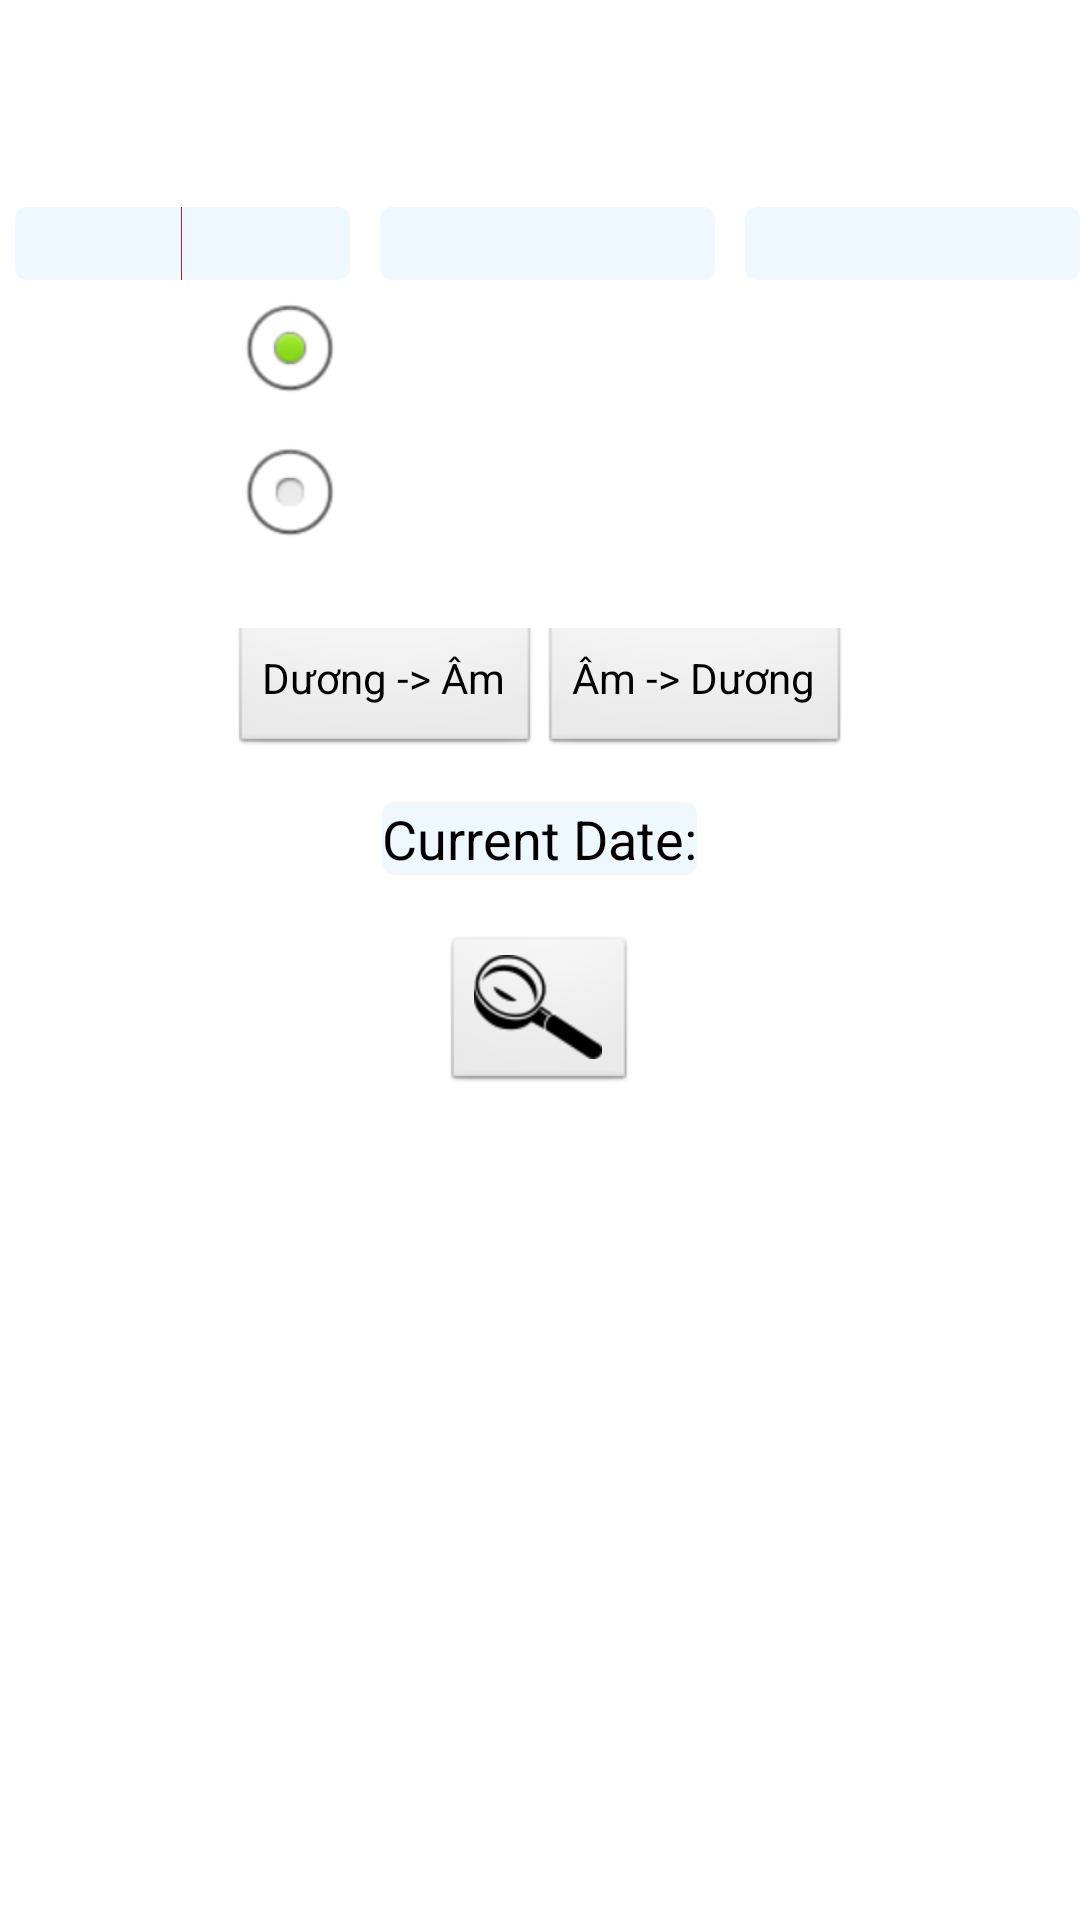

Locate icon controls on the screen. Image size 1080×1920, boxes as [x1=x1, y1=y1, x2=x2, y2=y2].
search: [x1=450, y1=937, x2=628, y2=1082]
